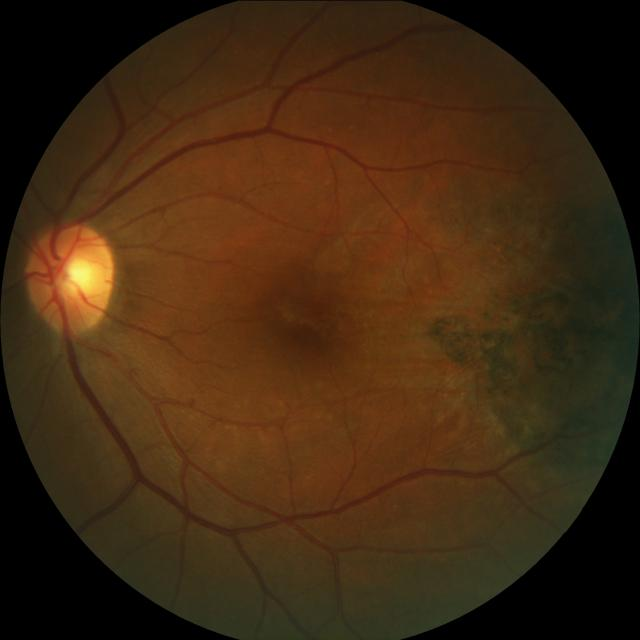OC: (44, 245, 99, 305)
OD: (23, 220, 113, 333)
